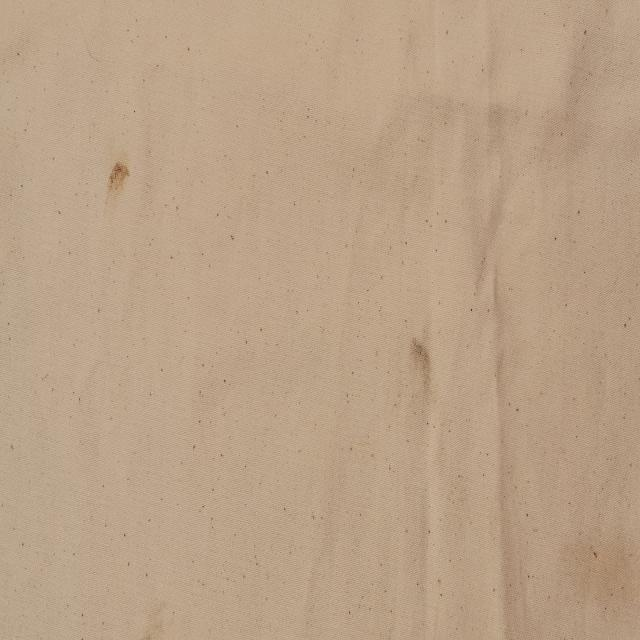taaaches: (557, 524, 637, 620), (402, 324, 438, 408), (98, 140, 136, 216)
